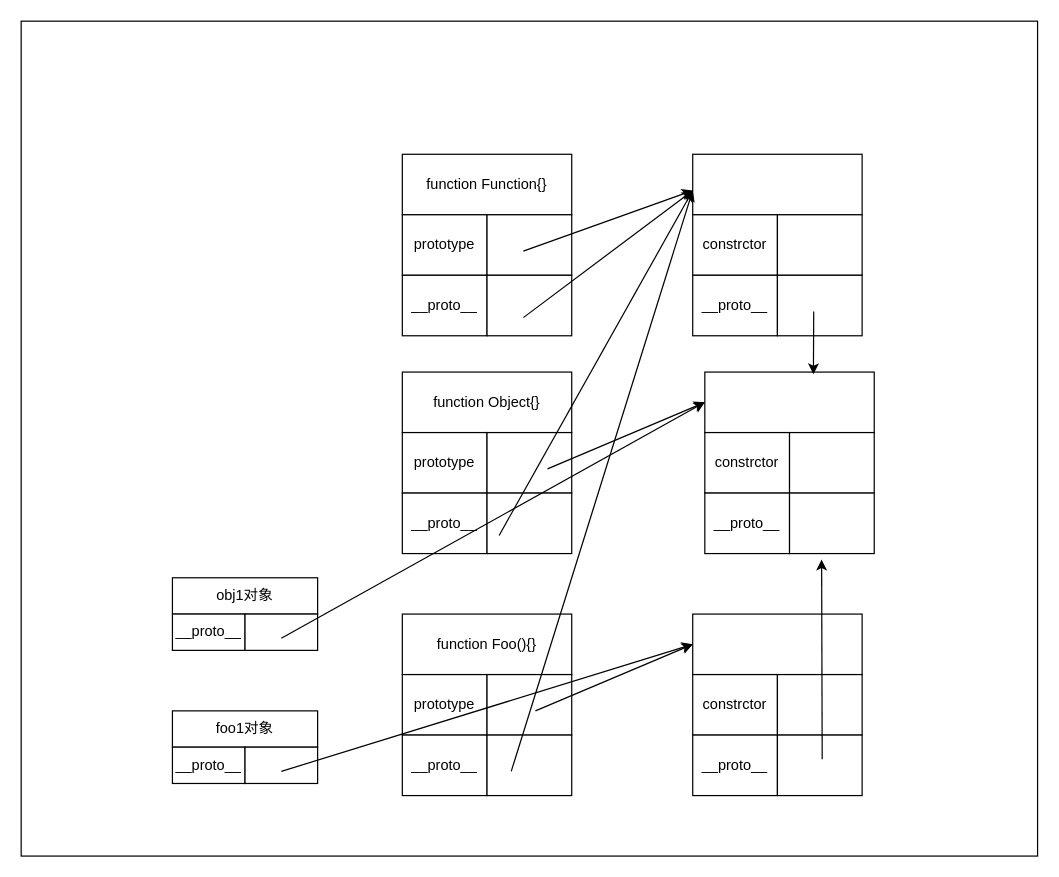
This 1059x877 diagram has some shape labels left out. The centre of each missing label's shape, as x and y in pixels:
"Foo的prototype对象" goes at (777,644).
"Function的prototype对象" goes at (777,184).
"Object的prototype对象" goes at (789,402).
